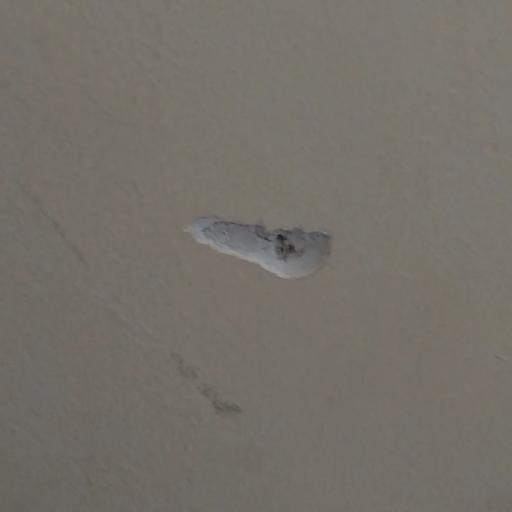spalling: (177, 189, 338, 301)
